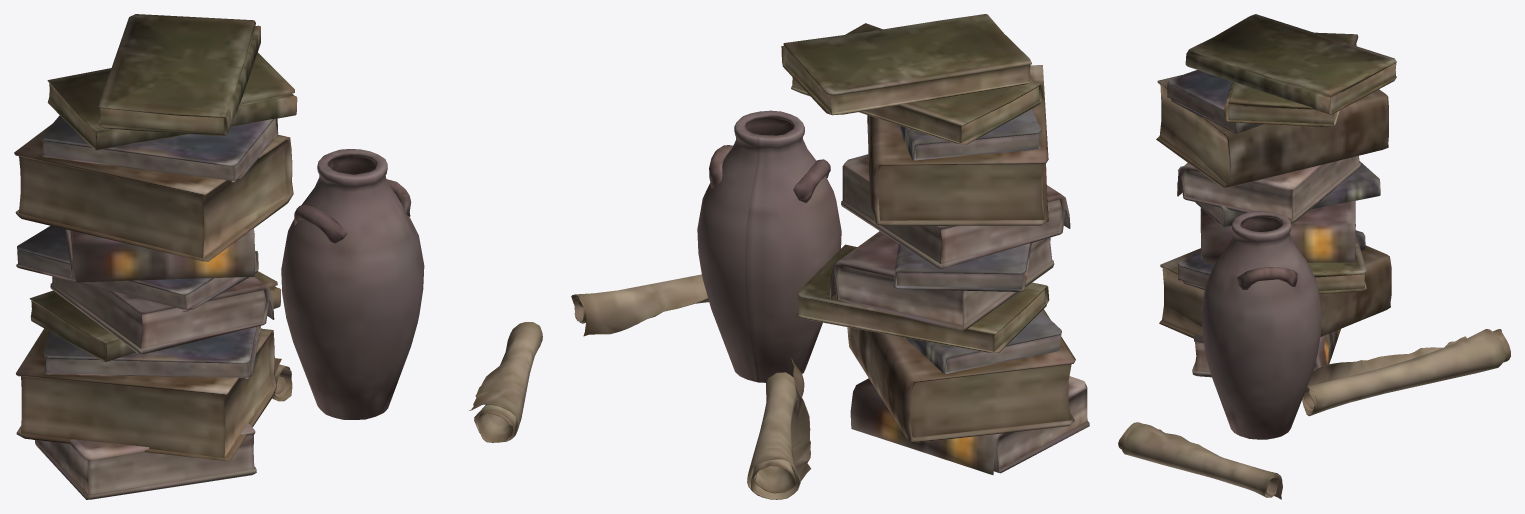
File: AEG228_147-transformed.glb
3 views of the same model, side by side, from view 1: azimuth 30°, elevation 25°; view 2: azimuth 150°, elevation 25°; view 3: azimuth 270°, elevation 25° (orthographic). The views are drawn at different scales.
Parts seen in each view (by area): view 1: default; view 2: default; view 3: default.
Part boxes in pixels (x1,y1,x2,y2): default: [14, 14, 542, 499]; default: [571, 14, 1089, 499]; default: [1118, 14, 1510, 499].
Size of the model in its own units: 1.09 by 0.7638 by 0.8606.
1 material, 1 textured.
